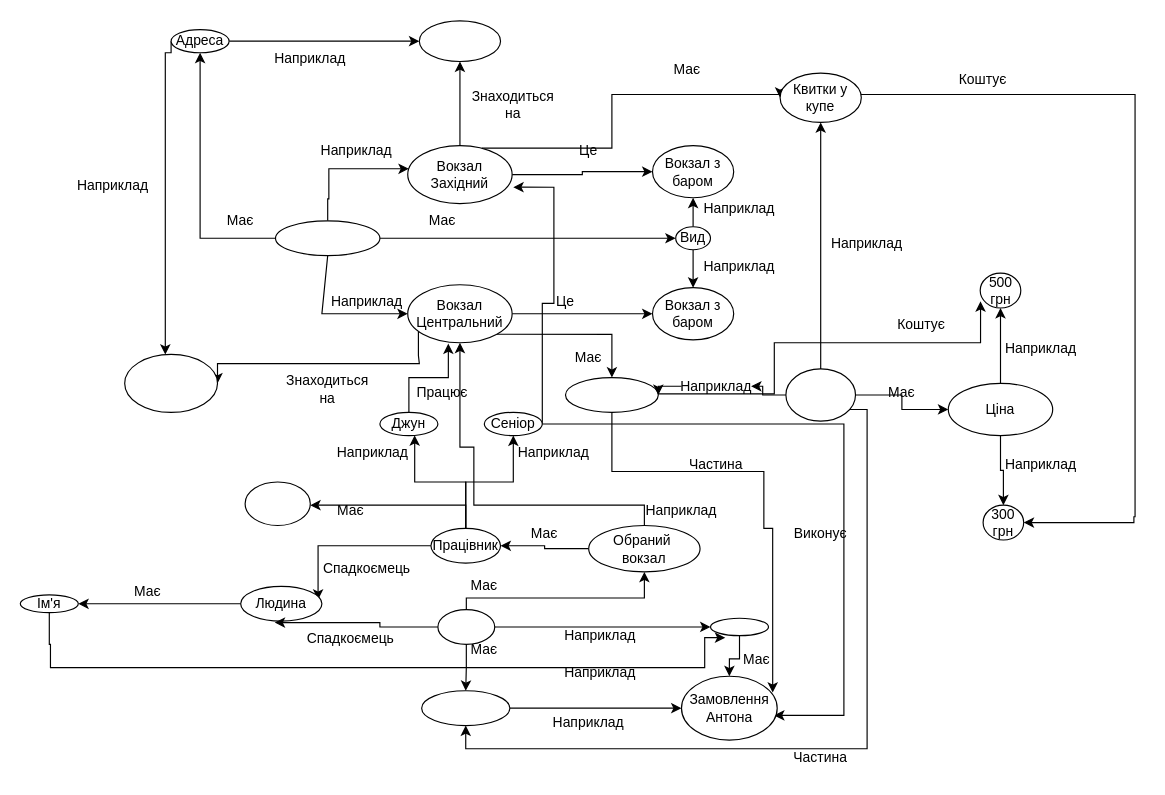
The diagram is 1165 pixels wide and 795 high, and some of its shapes have lost their labels. Each missing label, with the centre of its shape:
"Антон" belongs at (738,626).
"Вокзал" belongs at (327,238).
"Вул. Західна" belongs at (459,40).
"Вул. Центральна" belongs at (170,382).
"Замовлення" belongs at (465,708).
"Квитки у плацкарт" belongs at (611,394).
"Клієнт" belongs at (466,626).
"Місце роботи" belongs at (277,503).
"Тип квитка" belongs at (820,394).
